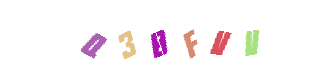0: (119, 0, 199, 80)
3: (107, 0, 187, 80)
F: (124, 0, 204, 80)
Q: (61, 0, 141, 80)
V: (168, 0, 248, 80), (211, 0, 291, 80)
